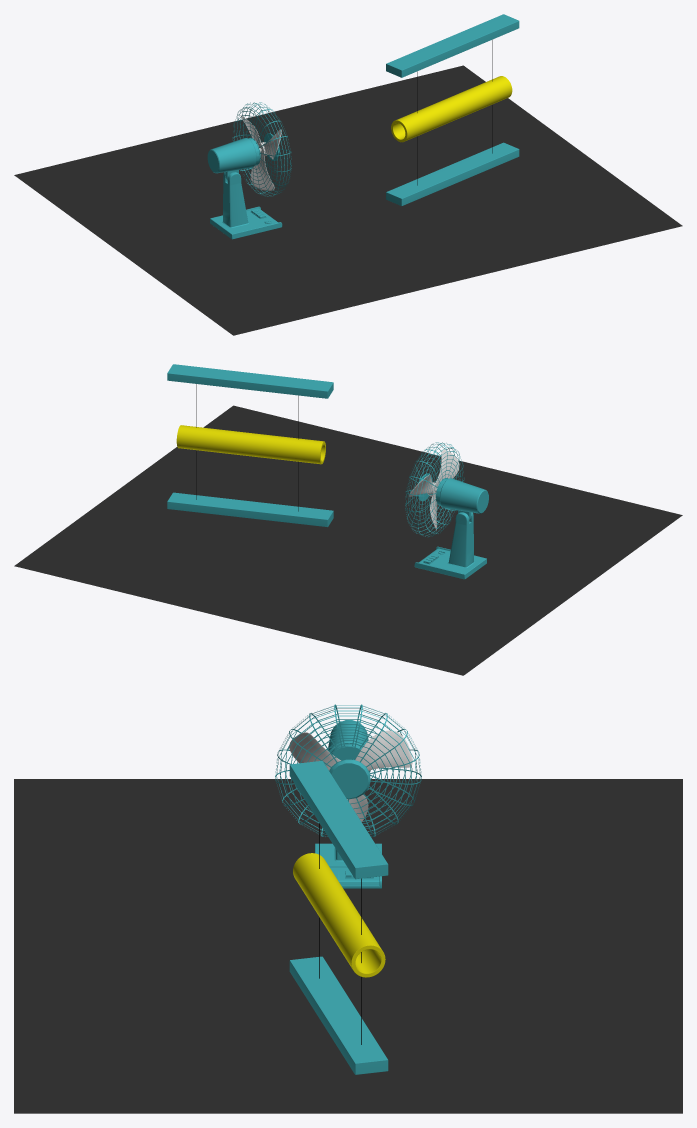
The model's file is Vibration_Vortex_Static.fbx.
3 views of the same model, one above another, from view 1: azimuth 30°, elevation 25°; view 2: azimuth 150°, elevation 25°; view 3: azimuth 270°, elevation 25° (orthographic). The views are drawn at different scales.
Parts seen in each view (by area): view 1: pPlane1, polySurface5, pCylinder4, pCube13, pCube14, polySurface6; view 2: pPlane1, polySurface5, pCylinder4, pCube13, pCube14, polySurface6; view 3: pPlane1, polySurface5, pCube13, pCube14, pCylinder4, polySurface6.
Part boxes in pixels (x1=…): pPlane1: x1=14, y1=65, x2=682, y2=335; polySurface5: x1=207, y1=102, x2=291, y2=239; pCylinder4: x1=391, y1=76, x2=512, y2=142; pCube13: x1=386, y1=142, x2=519, y2=205; pCube14: x1=386, y1=14, x2=519, y2=77; polySurface6: x1=240, y1=115, x2=281, y2=190; pPlane1: x1=14, y1=405, x2=682, y2=675; polySurface5: x1=405, y1=442, x2=488, y2=579; pCylinder4: x1=176, y1=425, x2=325, y2=464; pCube13: x1=167, y1=492, x2=333, y2=527; pCube14: x1=167, y1=364, x2=333, y2=398; polySurface6: x1=408, y1=449, x2=459, y2=530; pPlane1: x1=14, y1=779, x2=682, y2=1113; polySurface5: x1=275, y1=704, x2=421, y2=888; pCube13: x1=289, y1=956, x2=388, y2=1074; pCube14: x1=289, y1=761, x2=388, y2=879; pCylinder4: x1=293, y1=853, x2=385, y2=977; polySurface6: x1=289, y1=730, x2=412, y2=821.
Bounding box in the file's own units: 23.84 × 6.89 × 20.15.
